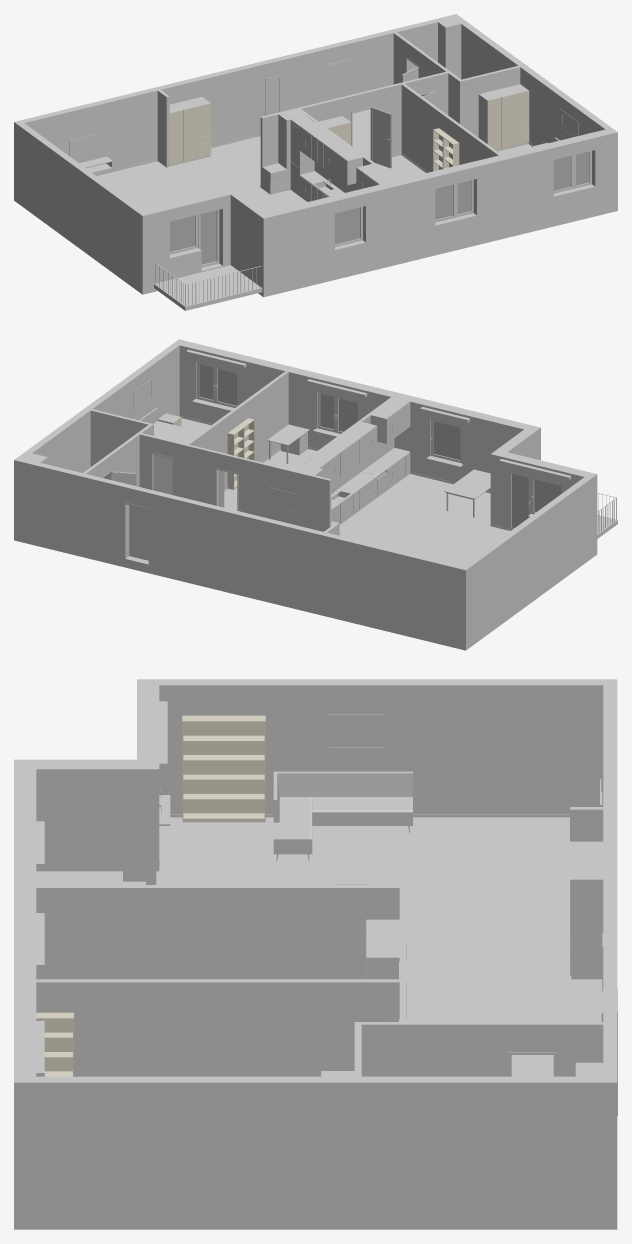
Rendered from flattest5.gltf.
3 renders of one model, top to bottom at view 1: azimuth 30°, elevation 25°; view 2: azimuth 150°, elevation 25°; view 3: azimuth 270°, elevation 25°, orthographic. The views are drawn at different scales.
Parts seen in each view (by area): view 1: Obido_3D_2glass; view 2: Obido_3D_2glass; view 3: Obido_3D_2glass.
Part boxes in pixels (x1=…): Obido_3D_2glass: x1=14, y1=14, x2=617, y2=310; Obido_3D_2glass: x1=14, y1=339, x2=617, y2=650; Obido_3D_2glass: x1=14, y1=679, x2=617, y2=1229.
Size of the model in its own units: 17.07 by 2.9 by 10.81.
